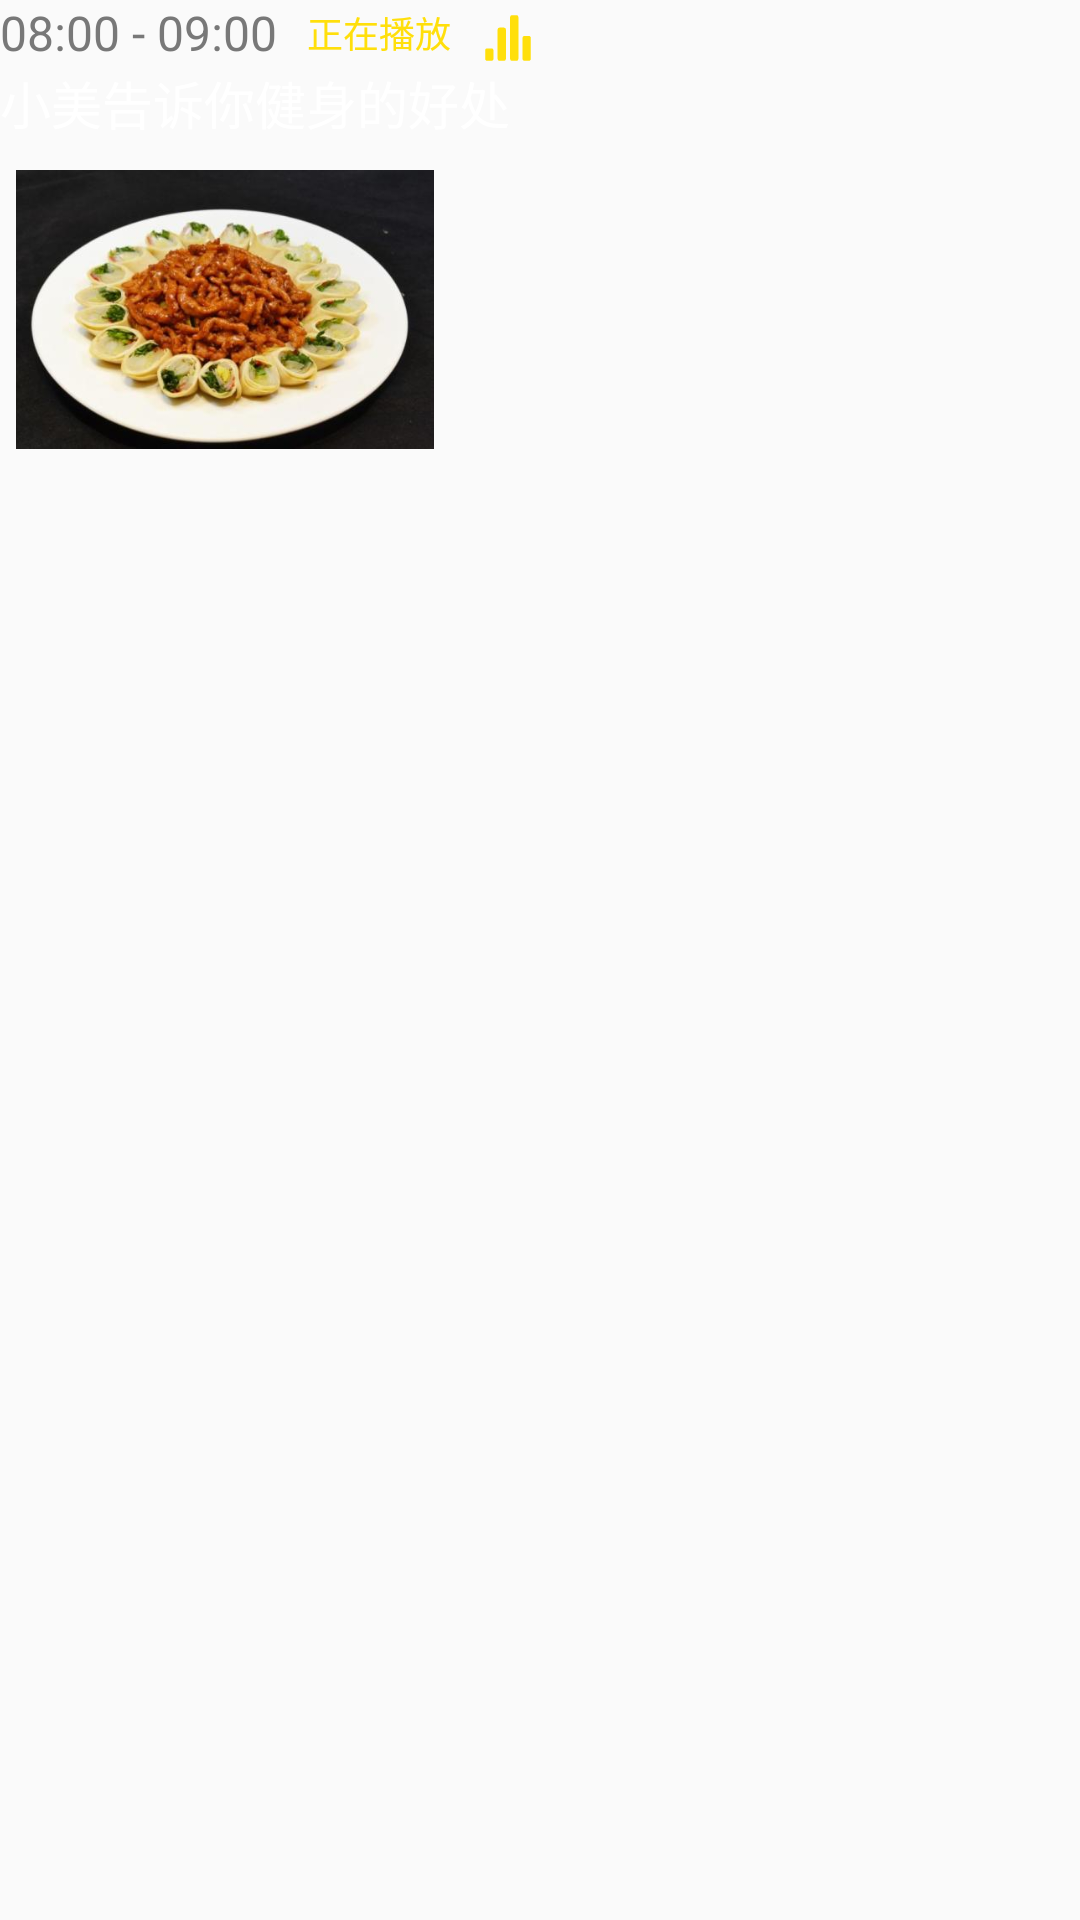

Locate icon controls on the screen. Image size 1080px x 1920px, boxes as rect(x1, y1, x2, y2).
spectrum: rect(485, 15, 531, 61)
